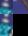recallP: (0, 14, 13, 36), (0, 0, 13, 14)
